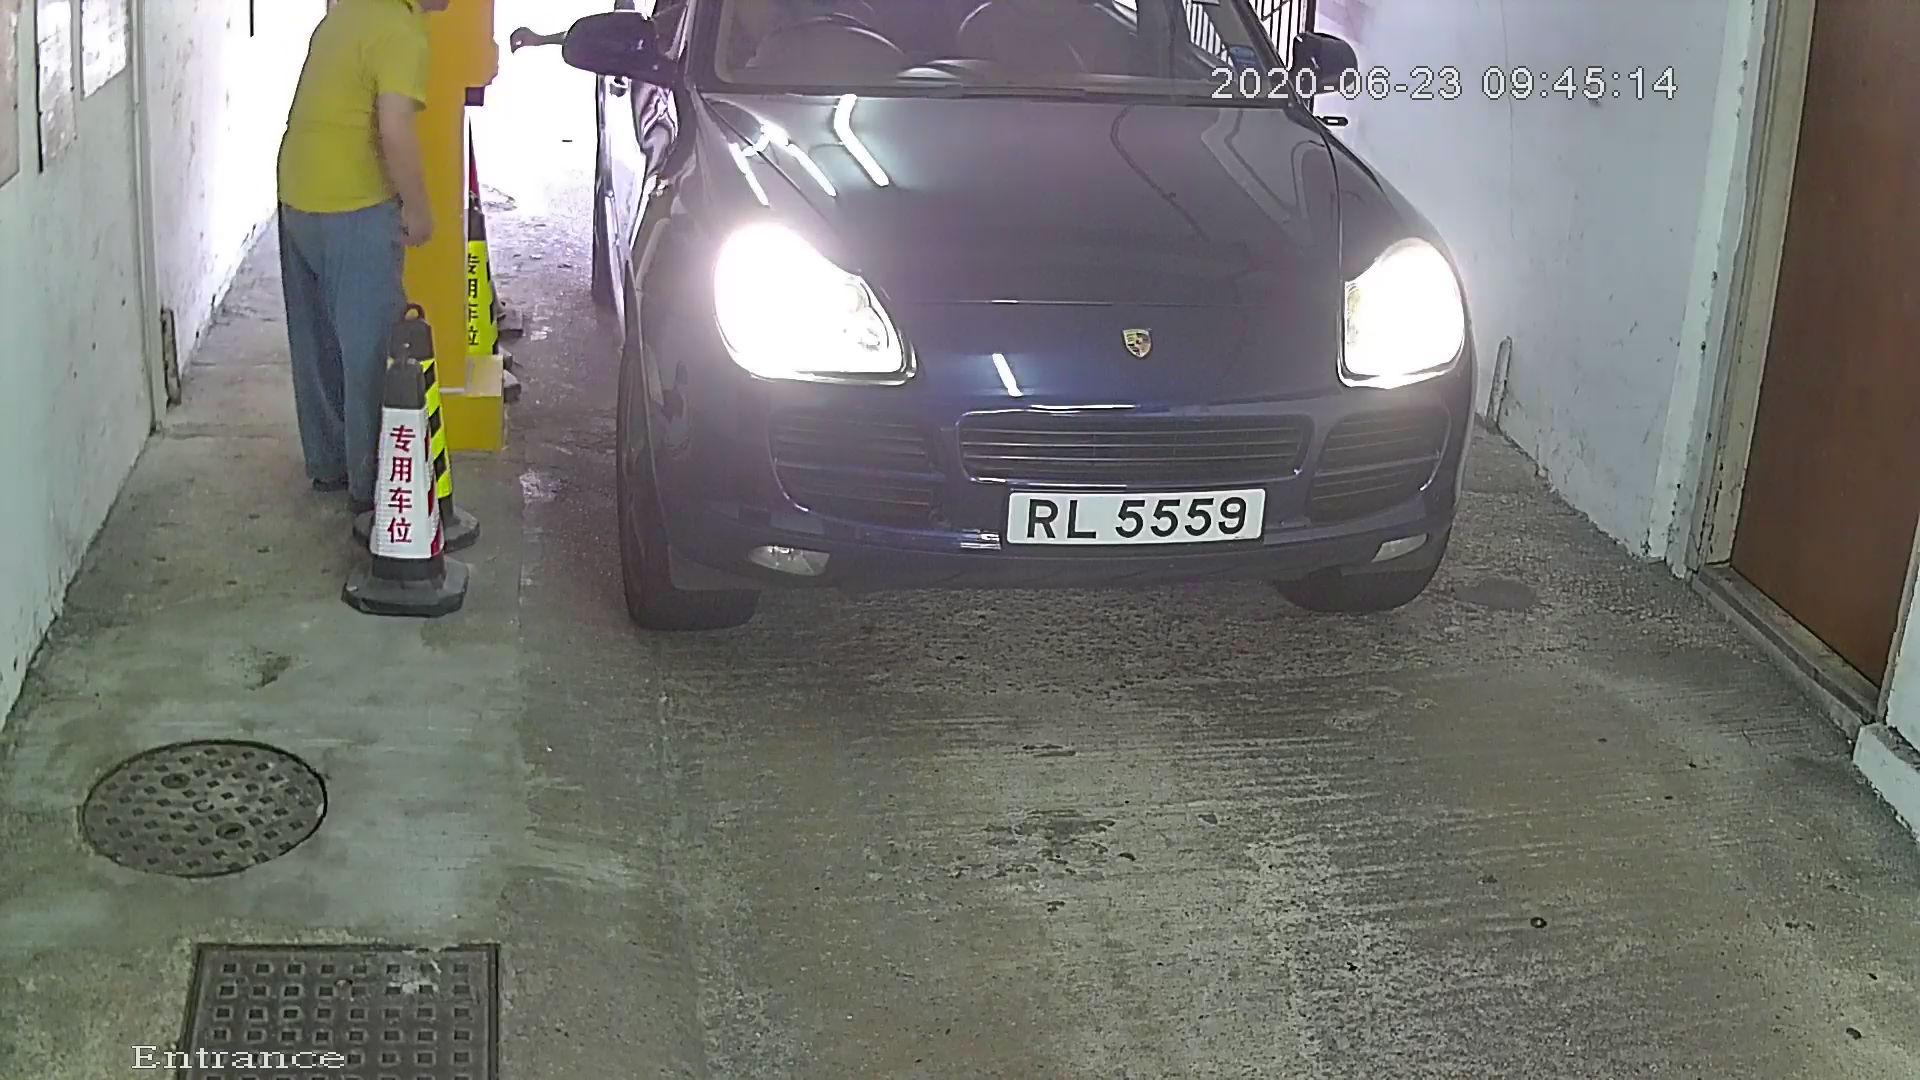privatecar: (521, 3, 1549, 673)
